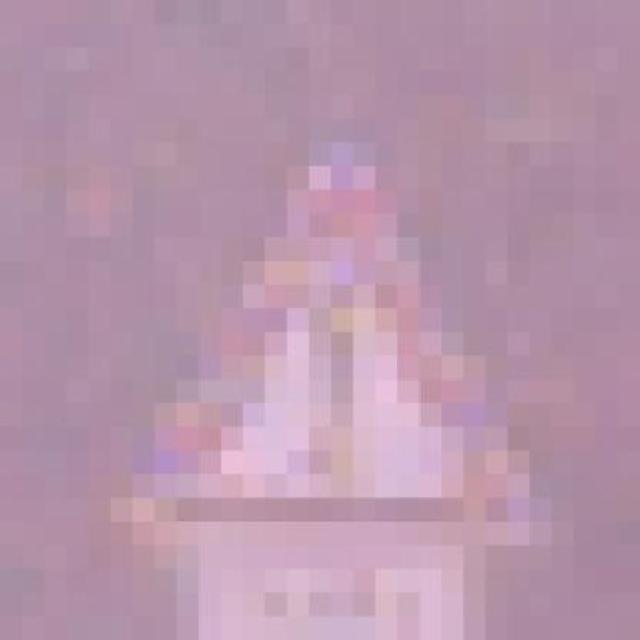Attention Please-: (88, 142, 530, 546)
